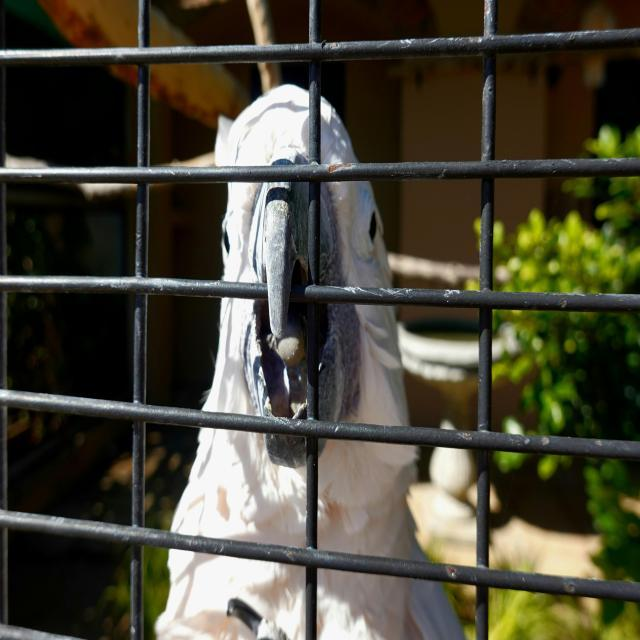Kakatua Putih: (124, 71, 479, 640)
